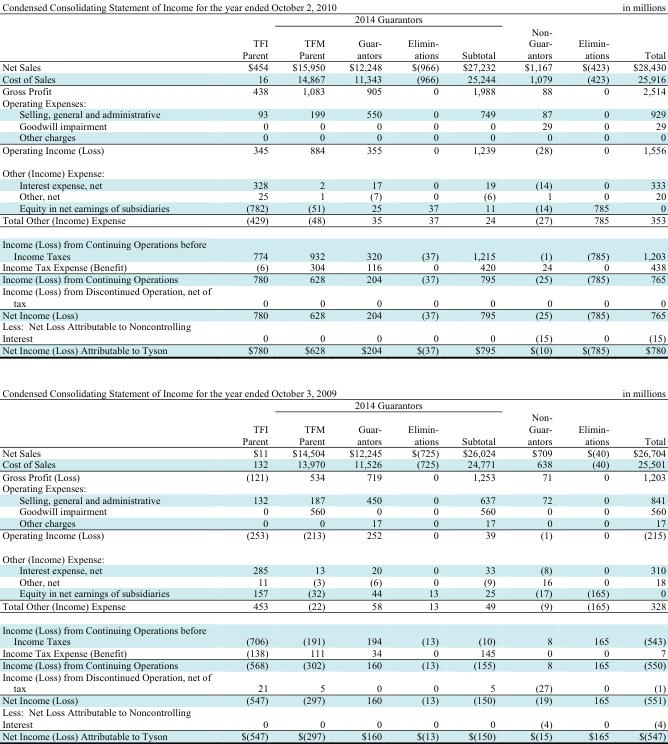table: (1, 1, 665, 741)
table column: (1, 1, 225, 741), (449, 1, 509, 741), (336, 1, 394, 741), (279, 1, 336, 741), (564, 1, 620, 741), (394, 1, 449, 741), (509, 1, 564, 741), (225, 1, 279, 741), (620, 1, 665, 741)
table column header: (1, 1, 665, 60)
table projected row header: (1, 160, 665, 178), (1, 546, 665, 564), (1, 96, 665, 108), (1, 482, 665, 493)
table row: (1, 410, 665, 446), (1, 30, 665, 60), (1, 231, 665, 260), (1, 617, 665, 646), (1, 343, 665, 371), (1, 371, 665, 398), (1, 284, 665, 308), (1, 670, 665, 694), (1, 705, 665, 729), (1, 320, 665, 343), (1, 12, 665, 30), (1, 160, 665, 178), (1, 213, 665, 231), (1, 528, 665, 546), (1, 546, 665, 564), (1, 599, 665, 617), (1, 143, 665, 160), (1, 60, 665, 72), (1, 72, 665, 84), (1, 84, 665, 96), (1, 96, 665, 108), (1, 119, 665, 131), (1, 131, 665, 143), (1, 189, 665, 201), (1, 201, 665, 213), (1, 260, 665, 272), (1, 272, 665, 284), (1, 308, 665, 320), (1, 398, 665, 410), (1, 446, 665, 458), (1, 458, 665, 470), (1, 470, 665, 482), (1, 493, 665, 505), (1, 516, 665, 528), (1, 575, 665, 587), (1, 587, 665, 599), (1, 646, 665, 658), (1, 658, 665, 670), (1, 729, 665, 741), (1, 1, 665, 12), (1, 108, 665, 119), (1, 178, 665, 189), (1, 482, 665, 493), (1, 505, 665, 516), (1, 564, 665, 575), (1, 694, 665, 705)
table spanning cell: (1, 371, 509, 398), (1, 1, 509, 12), (279, 12, 509, 30), (509, 1, 564, 60), (279, 398, 509, 410), (564, 371, 665, 398), (564, 12, 620, 60), (225, 12, 279, 60), (620, 12, 665, 60), (564, 1, 665, 12)
